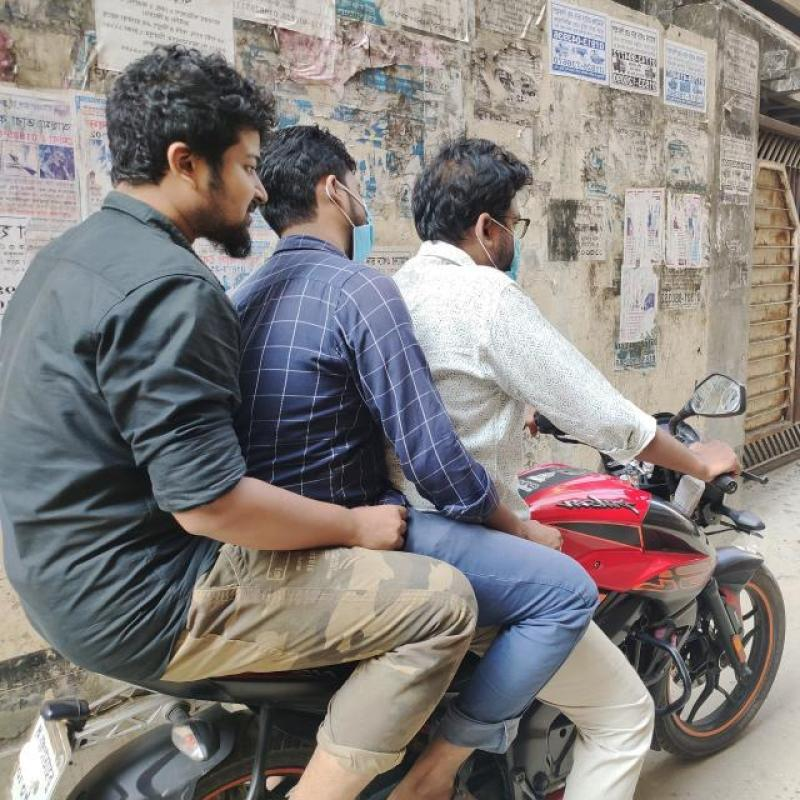nohelmet: (74, 42, 250, 266), (404, 123, 551, 276), (250, 102, 370, 262)
